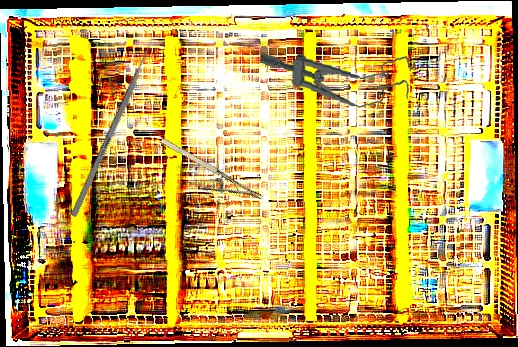Needle Holder: (149, 134, 265, 221)
Pusher: (70, 31, 159, 218)
Speculum: (256, 41, 416, 113)
